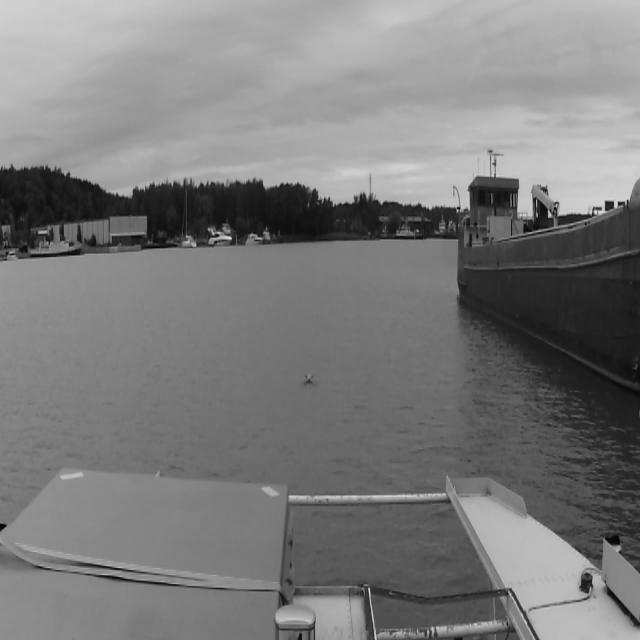ship: (454, 161, 640, 403), (180, 185, 198, 251), (204, 224, 236, 250), (246, 232, 263, 244)
